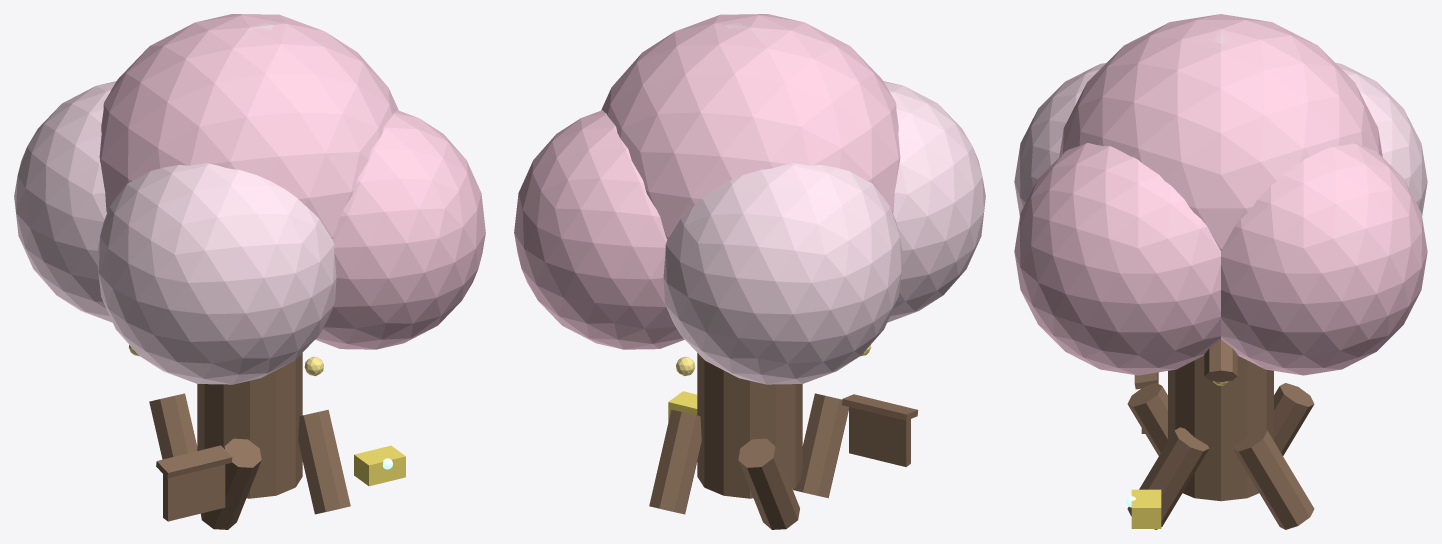
File: Arbol_Sagrado_Spectacular.fbx
The picture shows the model from 3 angles, left to right: view 1: azimuth 30°, elevation 25°; view 2: azimuth 150°, elevation 25°; view 3: azimuth 270°, elevation 25°; orthographic projection.
Visible parts, largest first — view 1: Sakura_Cloud_2, Sakura_Cloud_1, Sakura_Cloud_3, Sakura_Cloud_4, Tree_Trunk, Buttress_Root_4, Quest_Noticeboard, Buttress_Root_3, Buttress_Root_2, Daily_Reward_Chest, Quest_Rooflet; view 2: Sakura_Cloud_4, Sakura_Cloud_1, Sakura_Cloud_5, Sakura_Cloud_2, Tree_Trunk, Buttress_Root_1, Buttress_Root_3, Buttress_Root_2, Quest_Noticeboard, Quest_Rooflet, Daily_Reward_Chest; view 3: Sakura_Cloud_1, Sakura_Cloud_3, Sakura_Cloud_5, Tree_Trunk, Sakura_Cloud_2, Sakura_Cloud_4, Buttress_Root_1, Buttress_Root_4, Buttress_Root_2, Buttress_Root_3, Daily_Reward_Chest, Bough_1.
Boxes of the visible parts, left/top/right/bottom form: Sakura_Cloud_2: left=96, top=163, right=336, bottom=384; Sakura_Cloud_1: left=99, top=14, right=398, bottom=238; Sakura_Cloud_3: left=315, top=110, right=485, bottom=349; Sakura_Cloud_4: left=14, top=81, right=116, bottom=322; Tree_Trunk: left=197, top=353, right=302, bottom=498; Buttress_Root_4: left=298, top=409, right=350, bottom=514; Quest_Noticeboard: left=163, top=464, right=225, bottom=521; Buttress_Root_3: left=201, top=438, right=261, bottom=529; Buttress_Root_2: left=149, top=393, right=197, bottom=459; Daily_Reward_Chest: left=354, top=445, right=405, bottom=486; Quest_Rooflet: left=156, top=445, right=232, bottom=478; Sakura_Cloud_4: left=663, top=163, right=903, bottom=384; Sakura_Cloud_1: left=601, top=14, right=900, bottom=238; Sakura_Cloud_5: left=514, top=110, right=684, bottom=349; Sakura_Cloud_2: left=883, top=81, right=985, bottom=322; Tree_Trunk: left=697, top=353, right=802, bottom=498; Buttress_Root_1: left=649, top=409, right=701, bottom=514; Buttress_Root_3: left=792, top=393, right=848, bottom=498; Buttress_Root_2: left=738, top=438, right=799, bottom=529; Quest_Noticeboard: left=849, top=407, right=910, bottom=466; Quest_Rooflet: left=842, top=394, right=918, bottom=420; Daily_Reward_Chest: left=668, top=391, right=697, bottom=421; Sakura_Cloud_1: left=1059, top=14, right=1382, bottom=250; Sakura_Cloud_3: left=1014, top=143, right=1220, bottom=375; Sakura_Cloud_5: left=1221, top=143, right=1427, bottom=375; Tree_Trunk: left=1168, top=355, right=1273, bottom=501; Sakura_Cloud_2: left=1014, top=63, right=1105, bottom=215; Sakura_Cloud_4: left=1336, top=63, right=1427, bottom=215; Buttress_Root_1: left=1232, top=427, right=1314, bottom=529; Buttress_Root_4: left=1127, top=427, right=1209, bottom=529; Buttress_Root_2: left=1274, top=383, right=1314, bottom=455; Buttress_Root_3: left=1127, top=383, right=1167, bottom=455; Daily_Reward_Chest: left=1131, top=489, right=1161, bottom=528; Bough_1: left=1204, top=339, right=1237, bottom=381.
Size of the model in its own units: 2500 by 3171 by 2500.
